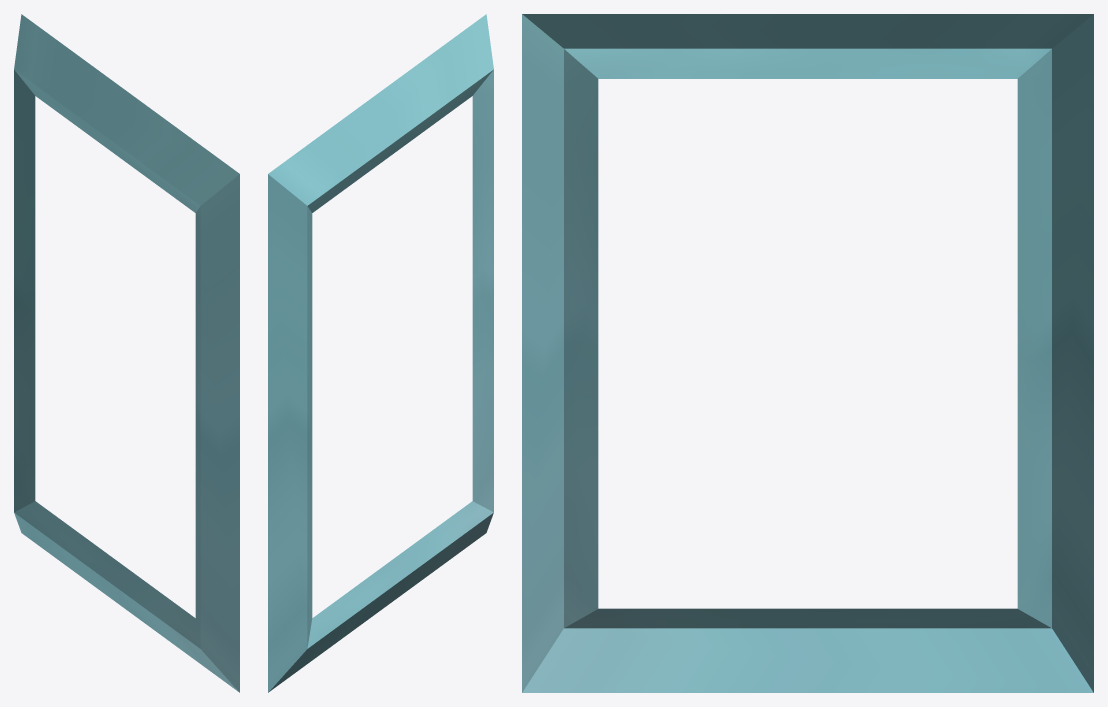
The model's file is marco.fbx.
3 renders of one model, left to right at view 1: azimuth 30°, elevation 25°; view 2: azimuth 150°, elevation 25°; view 3: azimuth 270°, elevation 25°, orthographic. The views are drawn at different scales.
Parts seen in each view (by area): view 1: Ventana; view 2: Ventana; view 3: Ventana.
Part boxes in pixels (bbox=[...]): Ventana: bbox=[14, 14, 239, 692]; Ventana: bbox=[268, 14, 493, 692]; Ventana: bbox=[522, 14, 1093, 692].
Size of the model in its own units: 5.81 by 123 by 93.82.
